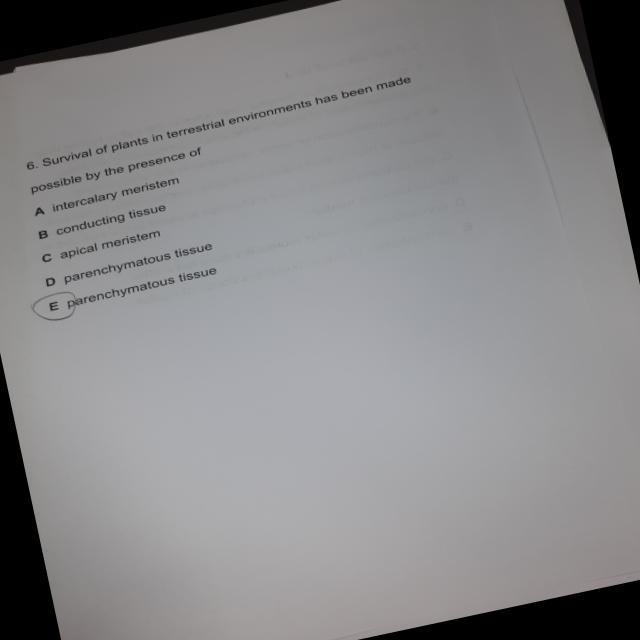E: (28, 287, 86, 329)
